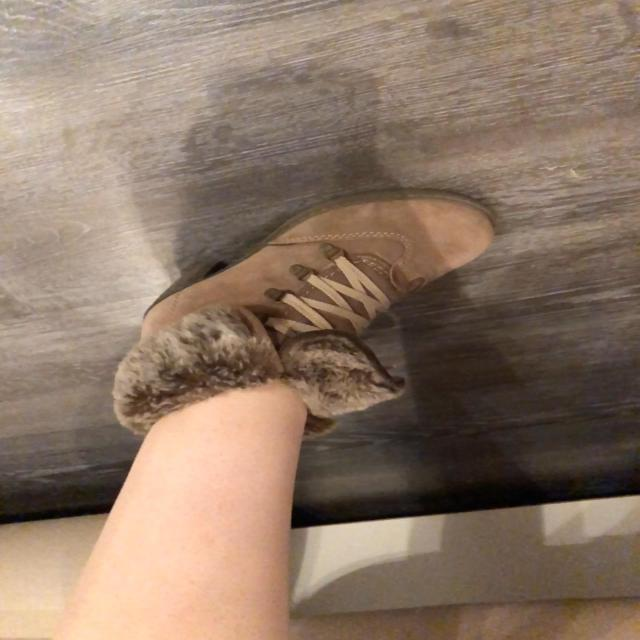shoe: (114, 189, 498, 436)
